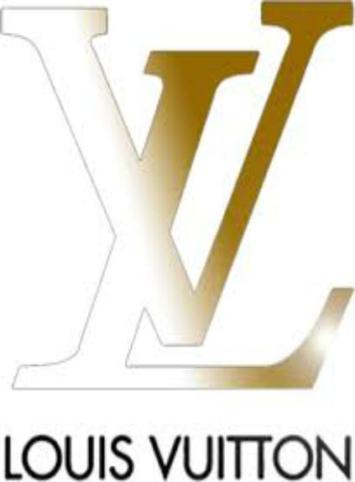LOUIS-VUITTON: (5, 2, 355, 400), (5, 425, 355, 482)
